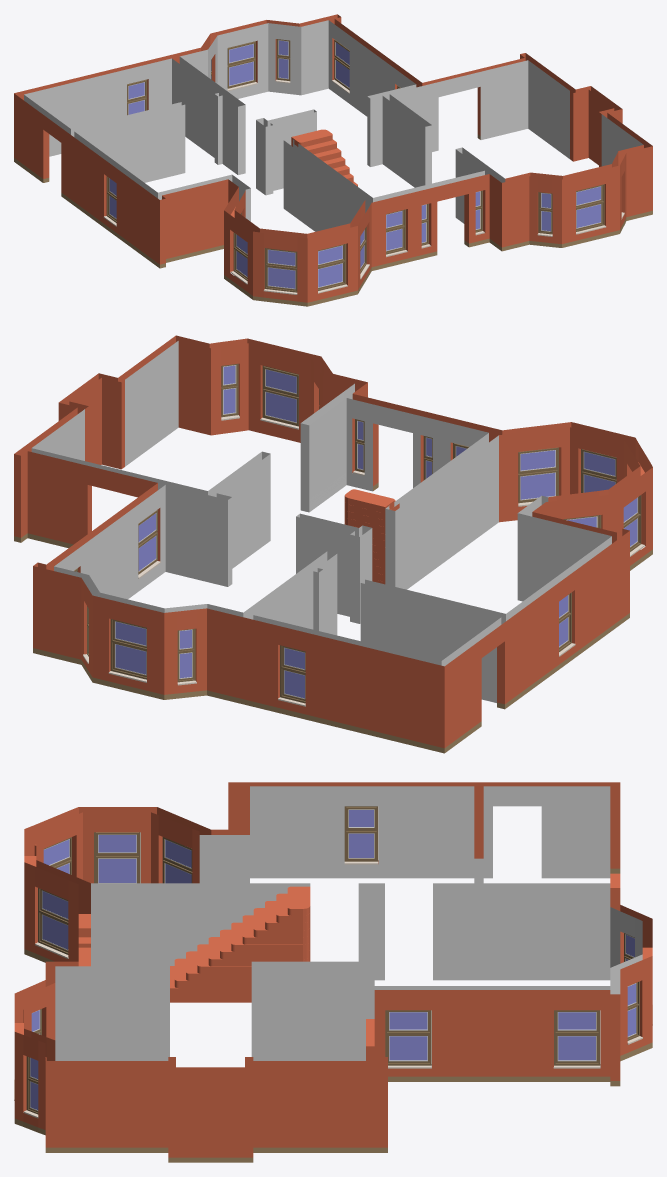
File: HouseWallsFL1.fbx
3 renders of one model, top to bottom at view 1: azimuth 30°, elevation 25°; view 2: azimuth 150°, elevation 25°; view 3: azimuth 270°, elevation 25°, orthographic. The views are drawn at different scales.
Visible parts, largest first — view 1: WallsF1, WindowsFL1; view 2: WallsF1, WindowsFL1; view 3: WallsF1, WindowsFL1.
Boxes of the visible parts, x1,y1,x2,y2 form: WallsF1: [14, 14, 652, 306]; WindowsFL1: [103, 39, 624, 294]; WallsF1: [14, 335, 652, 753]; WindowsFL1: [74, 363, 644, 706]; WallsF1: [14, 782, 652, 1162]; WindowsFL1: [14, 806, 652, 1118].
Bounding box in the file's own units: 18.16 × 2.75 × 16.98.
